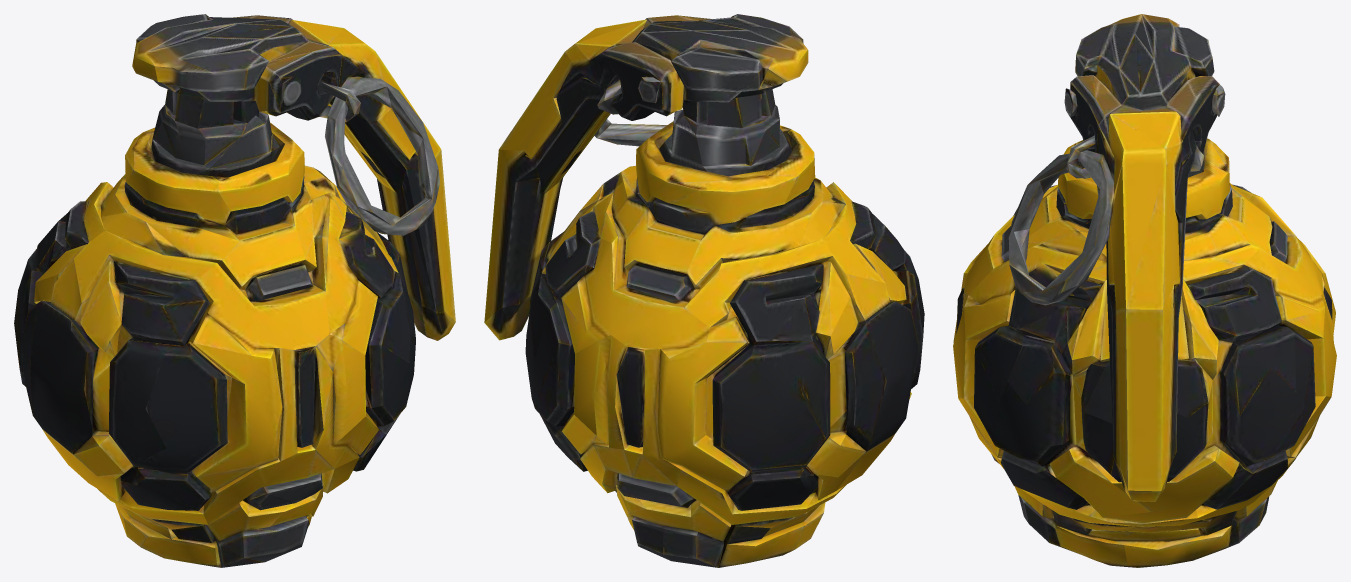
File: Grenade.glb
3 renders of one model, left to right at view 1: azimuth 30°, elevation 25°; view 2: azimuth 150°, elevation 25°; view 3: azimuth 270°, elevation 25°, orthographic.
Bounding box in the file's own units: 1.62 × 1.9 × 1.35.
Materials: 1 (1 with a texture image).
